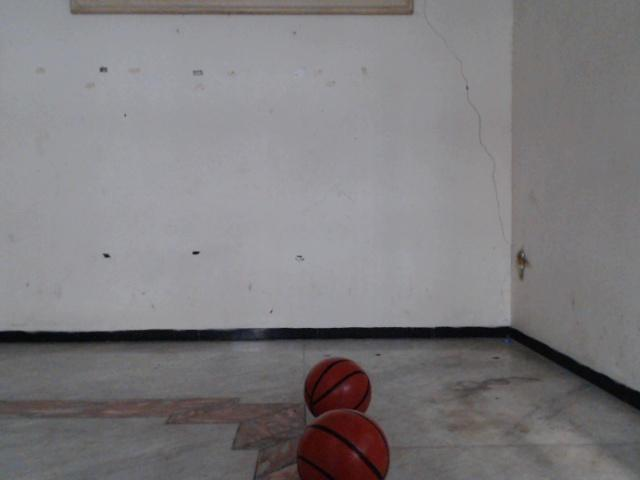Sports-Ball: (290, 417, 394, 480), (300, 356, 378, 419)
